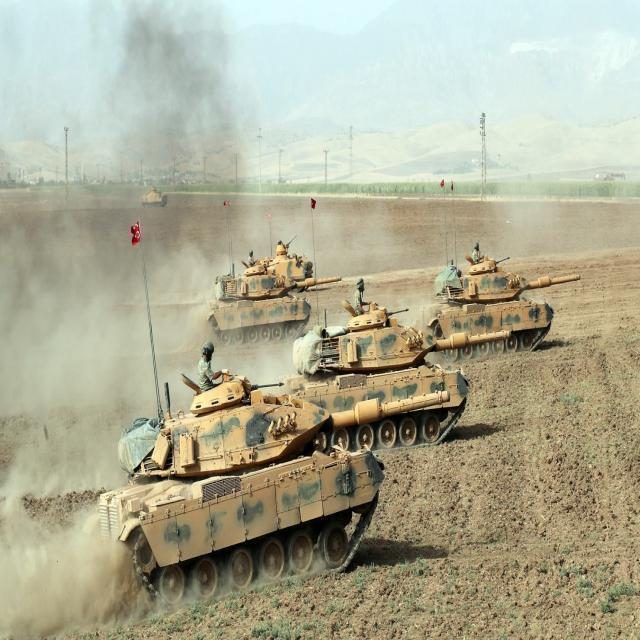MIL_MBT: (104, 366, 386, 600), (289, 296, 468, 448), (421, 248, 562, 349), (202, 260, 313, 343)
